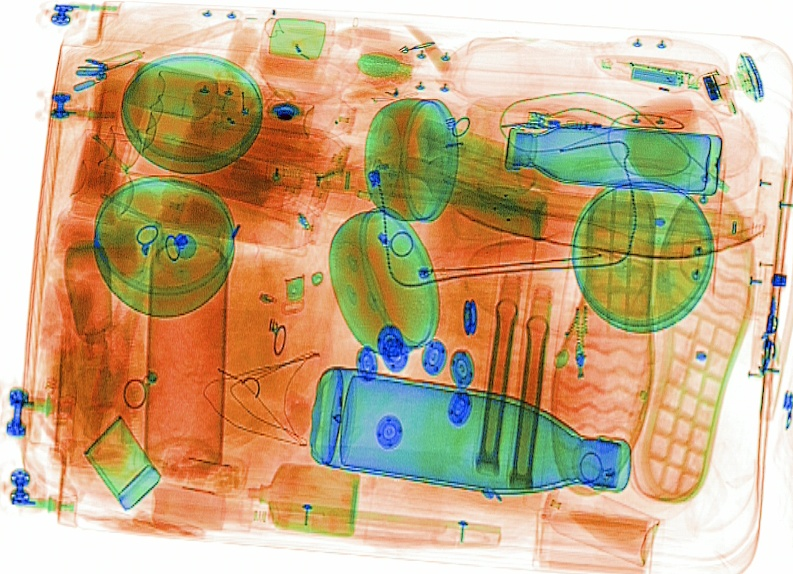pressure: (536, 482, 661, 565)
